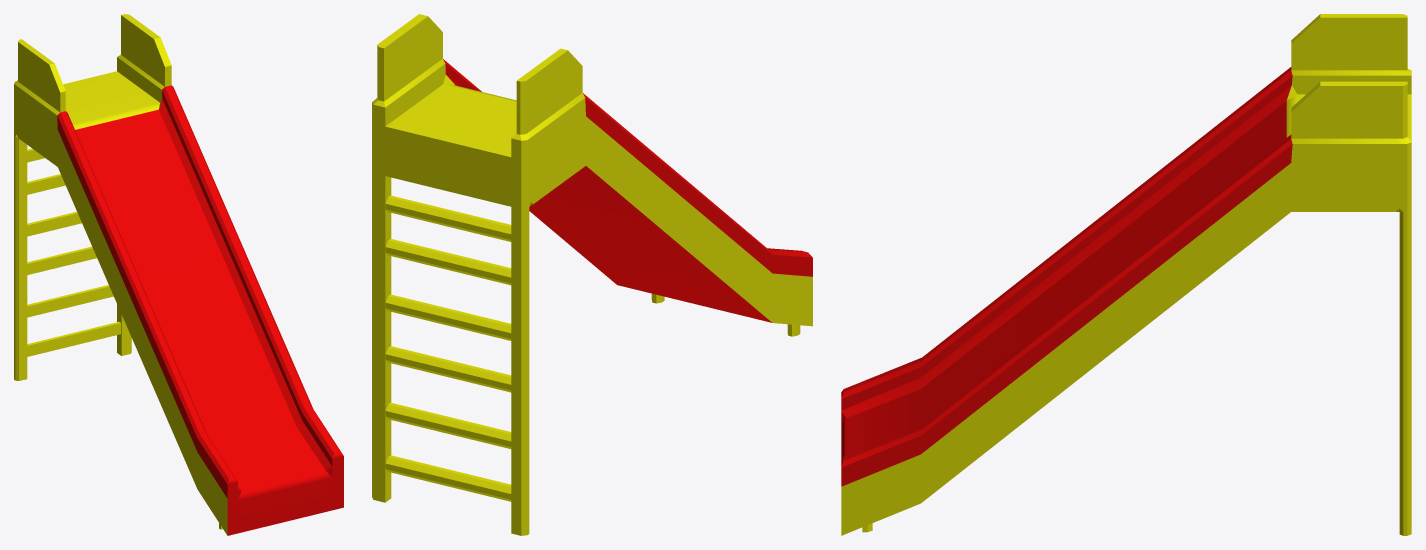
File: Slide.fbx
3 renders of one model, left to right at view 1: azimuth 30°, elevation 25°; view 2: azimuth 150°, elevation 25°; view 3: azimuth 270°, elevation 25°, orthographic. The views are drawn at different scales.
Visible parts, largest first — view 1: pCube10; view 2: pCube10; view 3: pCube10.
Part boxes in pixels (box(x1,y1,x2,y2)): pCube10: box(14, 14, 343, 535); pCube10: box(372, 14, 812, 535); pCube10: box(841, 14, 1411, 535).
Size of the model in its own units: 15.24 by 42.37 by 48.87.
